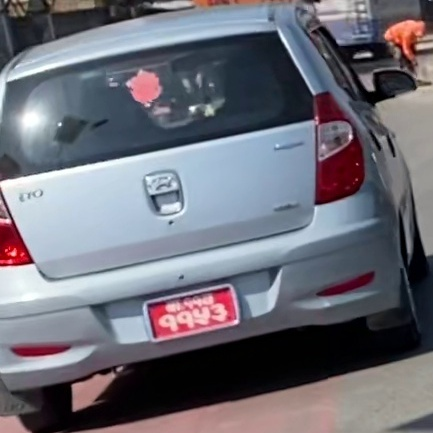license_plate: (146, 284, 239, 339)
